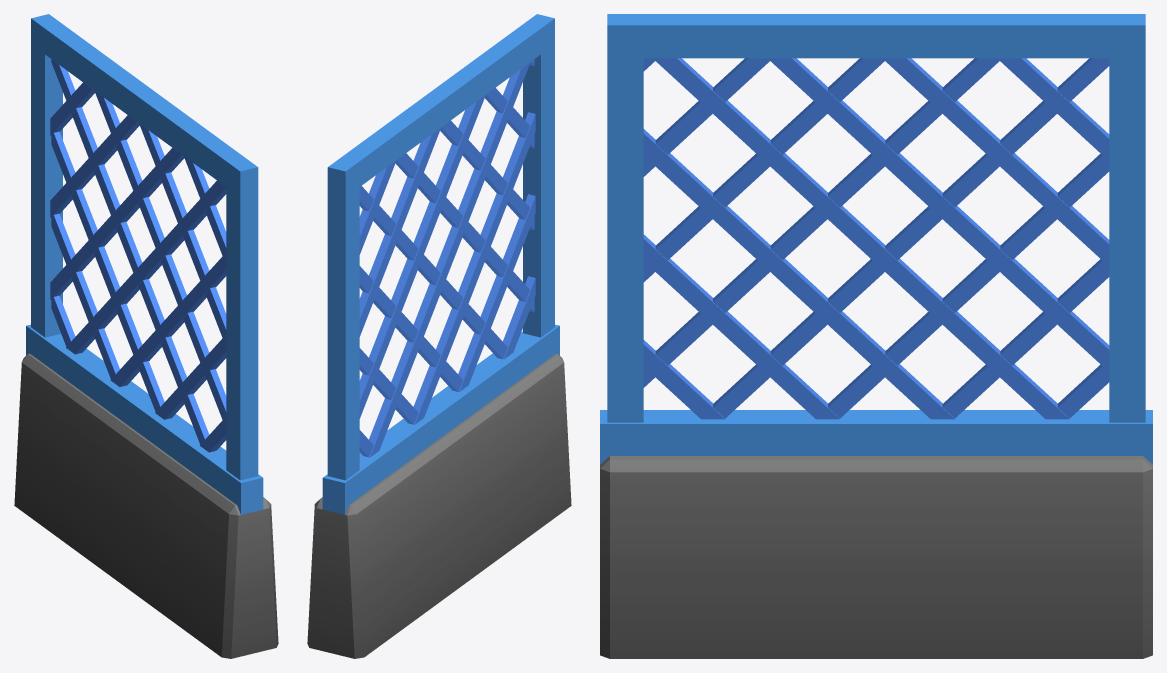
Rendered from Fence_1_G_7.glb.
3 renders of one model, left to right at view 1: azimuth 30°, elevation 25°; view 2: azimuth 150°, elevation 25°; view 3: azimuth 270°, elevation 25°, orthographic. The views are drawn at different scales.
Parts seen in each view (by area): view 1: Fence_1_G_7; view 2: Fence_1_G_7; view 3: Fence_1_G_7.
Boxes of the visible parts, x1,y1,x2,y2 form: Fence_1_G_7: (14, 14, 278, 658); Fence_1_G_7: (307, 14, 571, 658); Fence_1_G_7: (600, 14, 1152, 658).
Size of the model in its own units: 0.3052 by 2.48 by 2.
2 materials, 2 textured.
